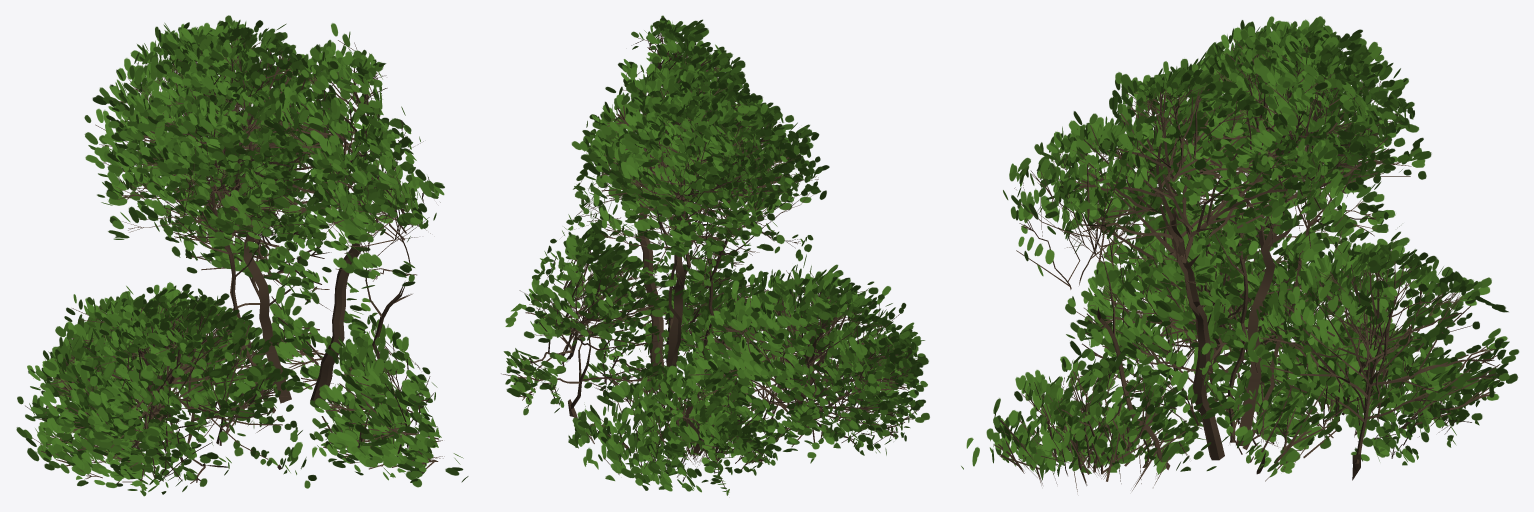
3 renders of one model, left to right at view 1: azimuth 30°, elevation 25°; view 2: azimuth 150°, elevation 25°; view 3: azimuth 270°, elevation 25°, orthographic. The views are drawn at different scales.
Visible parts, largest first — view 1: oak 01.001_trunk_Mat.001_0.357; view 2: oak 01.001_trunk_Mat.001_0.357; view 3: oak 01.001_trunk_Mat.001_0.357.
Part boxes in pixels (left/top/right/bottom): oak 01.001_trunk_Mat.001_0.357: left=16, top=15, right=468, bottom=496; oak 01.001_trunk_Mat.001_0.357: left=501, top=15, right=929, bottom=495; oak 01.001_trunk_Mat.001_0.357: left=961, top=16, right=1519, bottom=491.
Bounding box in the file's own units: 2.87 × 3.29 × 3.84.
Materials: 2 (1 with a texture image).
